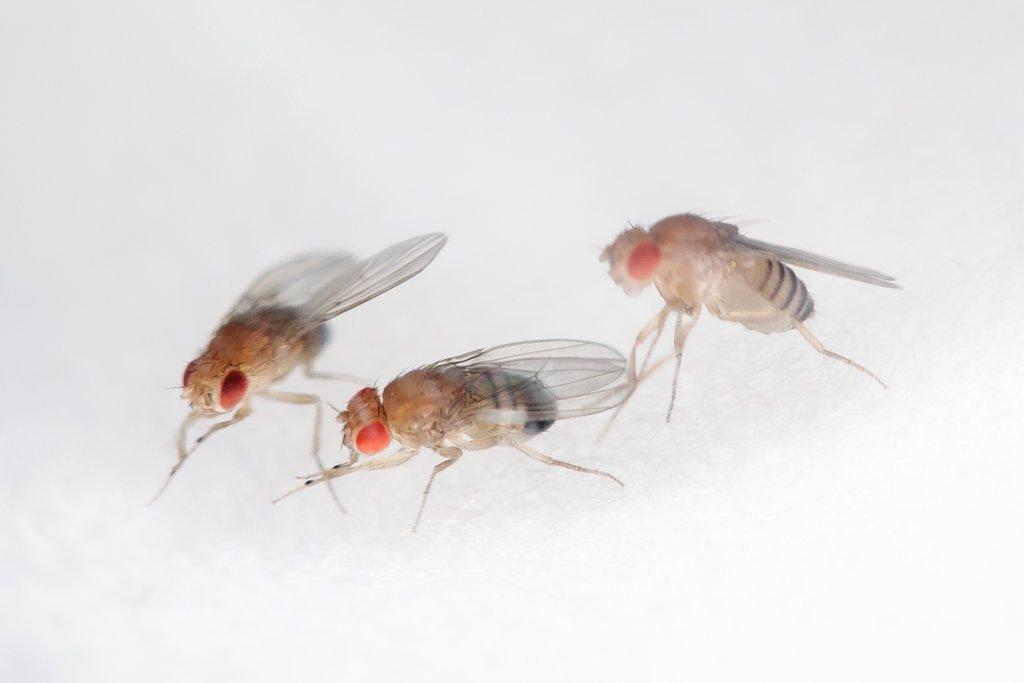phorid fly: (116, 163, 441, 521), (609, 183, 930, 449), (324, 326, 652, 537)
